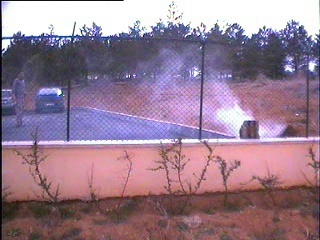smoke: (156, 61, 286, 139)
